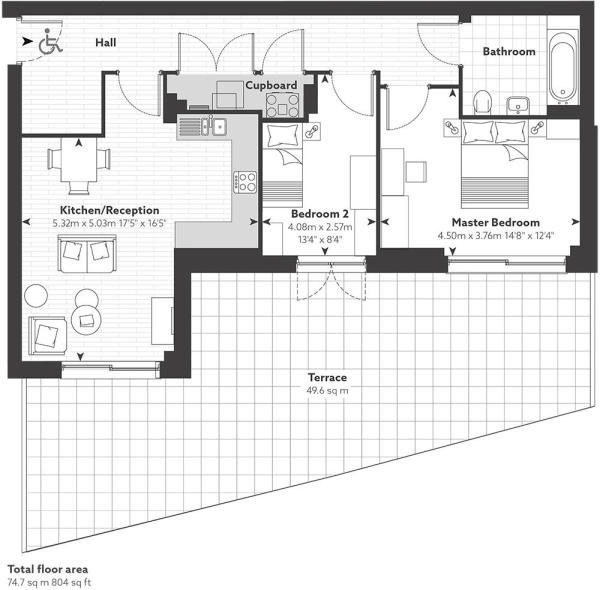GardenMeasurements: (305, 372, 352, 397)
GrossArea: (6, 561, 95, 590)
